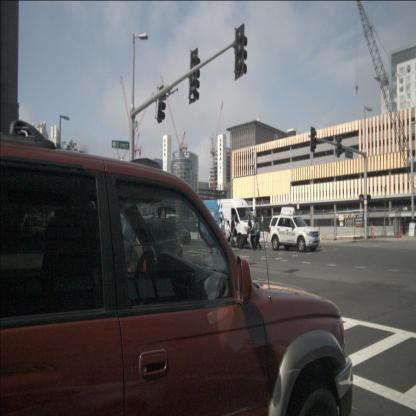cone: (371, 220, 375, 239), (397, 219, 401, 237)
